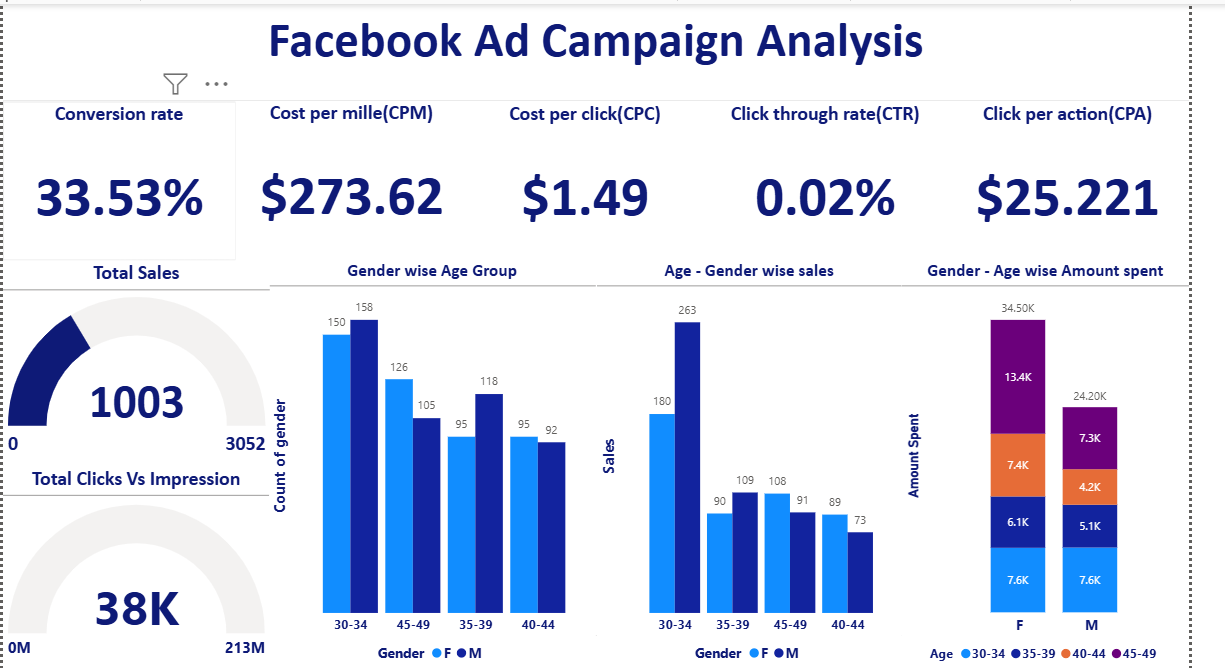

The page's visual inventory and layout, read from the dashboard file:
{"tool":"powerbi","page":{"name":"Page 1","canvas":[1280,720],"ordinal":0},"visuals":[{"type":"textbox","box":[0,0,1280,103.1],"z":0},{"type":"card","title":"Conversion rate","fields":{"Values":["Avg(working.Conversion rate)"]},"box":[0,104.9,250.2,171.4],"z":0,"group":"g1"},{"type":"clusteredColumnChart","title":"Gender wise Age Group","fields":{"Category":["working.age"],"Y":["CountNonNull(working.gender)"],"Series":["working.gender"]},"box":[287.3,275.9,353.3,444.1],"z":0,"group":"g2"},{"type":"group","id":"g1","title":"Group 1","box":[0,103.1,1280,579.4],"z":1000},{"type":"gauge","title":"Total Sales","fields":{"MaxValue":["Sum(working.Total_Conversion)"],"Y":["Sum(working.Approved_Conversion)"]},"box":[0,276.9,288,221.3],"z":1000,"group":"g2"},{"type":"tableEx","fields":{"Values":["Avg(working.Conversion rate)"]},"box":[0,461.5,287,221],"z":1000,"group":"g1"},{"type":"card","title":"Cost per click(CPC)","fields":{"Values":["Avg(working.CPC)"]},"box":[500.5,104.9,255.7,171.4],"z":2000,"group":"g1"},{"type":"group","id":"g2","title":"Group 2","box":[0,275.9,1280,444.1],"z":2000},{"type":"gauge","title":"Total Clicks Vs Impression","fields":{"MaxValue":["Sum(working.Impressions)"],"Y":["Sum(working.Clicks)"]},"box":[0,498.6,287.3,221.4],"z":2000,"group":"g2"},{"type":"card","title":"Click through rate(CTR)","fields":{"Values":["Avg(working.CTR)"]},"box":[756.2,104.9,262.6,171.4],"z":3000,"group":"g1"},{"type":"clusteredColumnChart","title":"Age - Gender wise sales","fields":{"Category":["working.age"],"Y":["Sum(working.Approved_Conversion)"],"Series":["working.gender"]},"box":[640.7,275.9,328.6,444.1],"z":3000,"group":"g2"},{"type":"card","title":"Cost per mille(CPM)","fields":{"Values":["Sum(working.CPM)"]},"box":[250.2,103.1,250.2,173.2],"z":4000,"group":"g1"},{"type":"columnChart","title":"Gender - Age wise Amount spent","fields":{"Category":["working.gender"],"Y":["Sum(working.Spent)"],"Series":["working.age"]},"box":[969.3,275.9,310.7,444.1],"z":4000,"group":"g2"},{"type":"card","title":"Click per action(CPA)","fields":{"Values":["Avg(working.CPA)"]},"box":[1018.8,104.9,261.2,171.4],"z":5000,"group":"g1"}]}

Visuals, with their boxes in screenshot pixels (x1, y1, x2, y2), scaled from the page's 1280x720 canvas onto the 1225x670 screenshot:
textbox: BBox(0, 0, 1224, 96)
"Conversion rate" card: BBox(0, 98, 239, 257)
"Gender wise Age Group" clusteredColumnChart: BBox(275, 257, 613, 669)
"Group 1" group: BBox(0, 96, 1224, 635)
"Total Sales" gauge: BBox(0, 258, 276, 464)
tableEx - Avg(working.Conversion rate): BBox(0, 429, 275, 635)
"Cost per click(CPC)" card: BBox(479, 98, 724, 257)
"Group 2" group: BBox(0, 257, 1224, 669)
"Total Clicks Vs Impression" gauge: BBox(0, 464, 275, 669)
"Click through rate(CTR)" card: BBox(724, 98, 975, 257)
"Age - Gender wise sales" clusteredColumnChart: BBox(613, 257, 928, 669)
"Cost per mille(CPM)" card: BBox(239, 96, 479, 257)
"Gender - Age wise Amount spent" columnChart: BBox(928, 257, 1224, 669)
"Click per action(CPA)" card: BBox(975, 98, 1224, 257)
